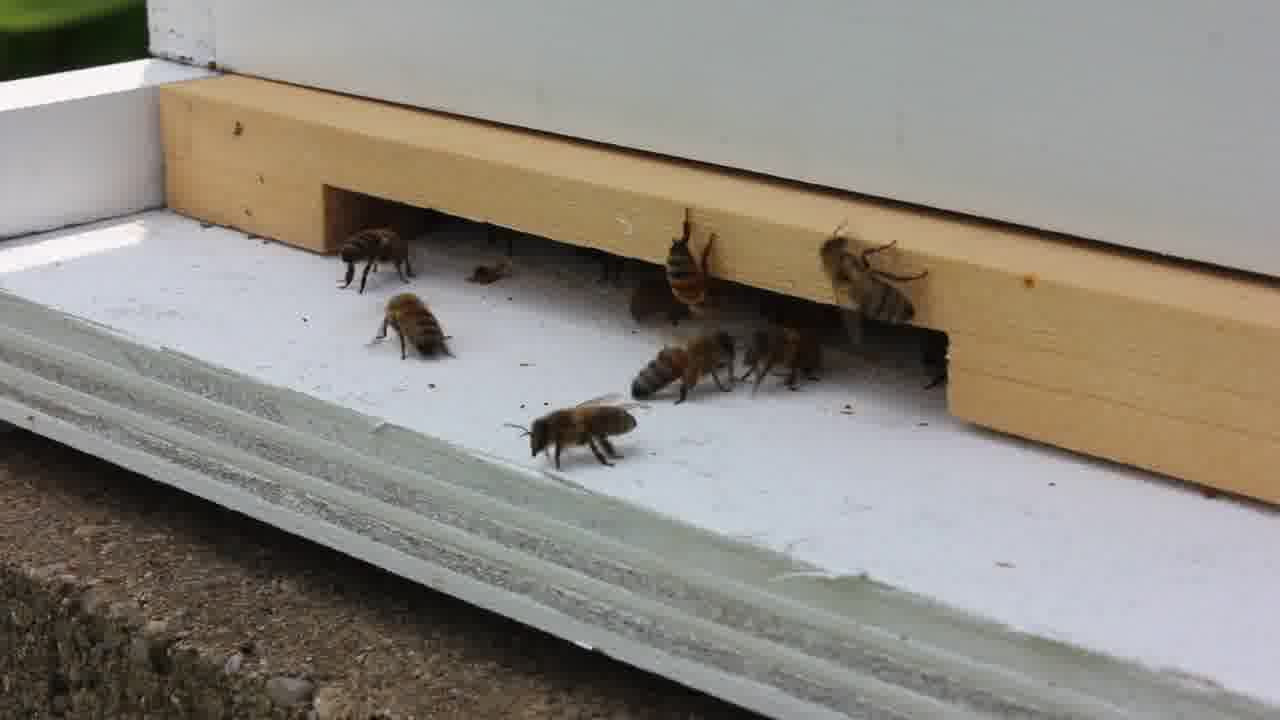pollen: (631, 326, 742, 406)
